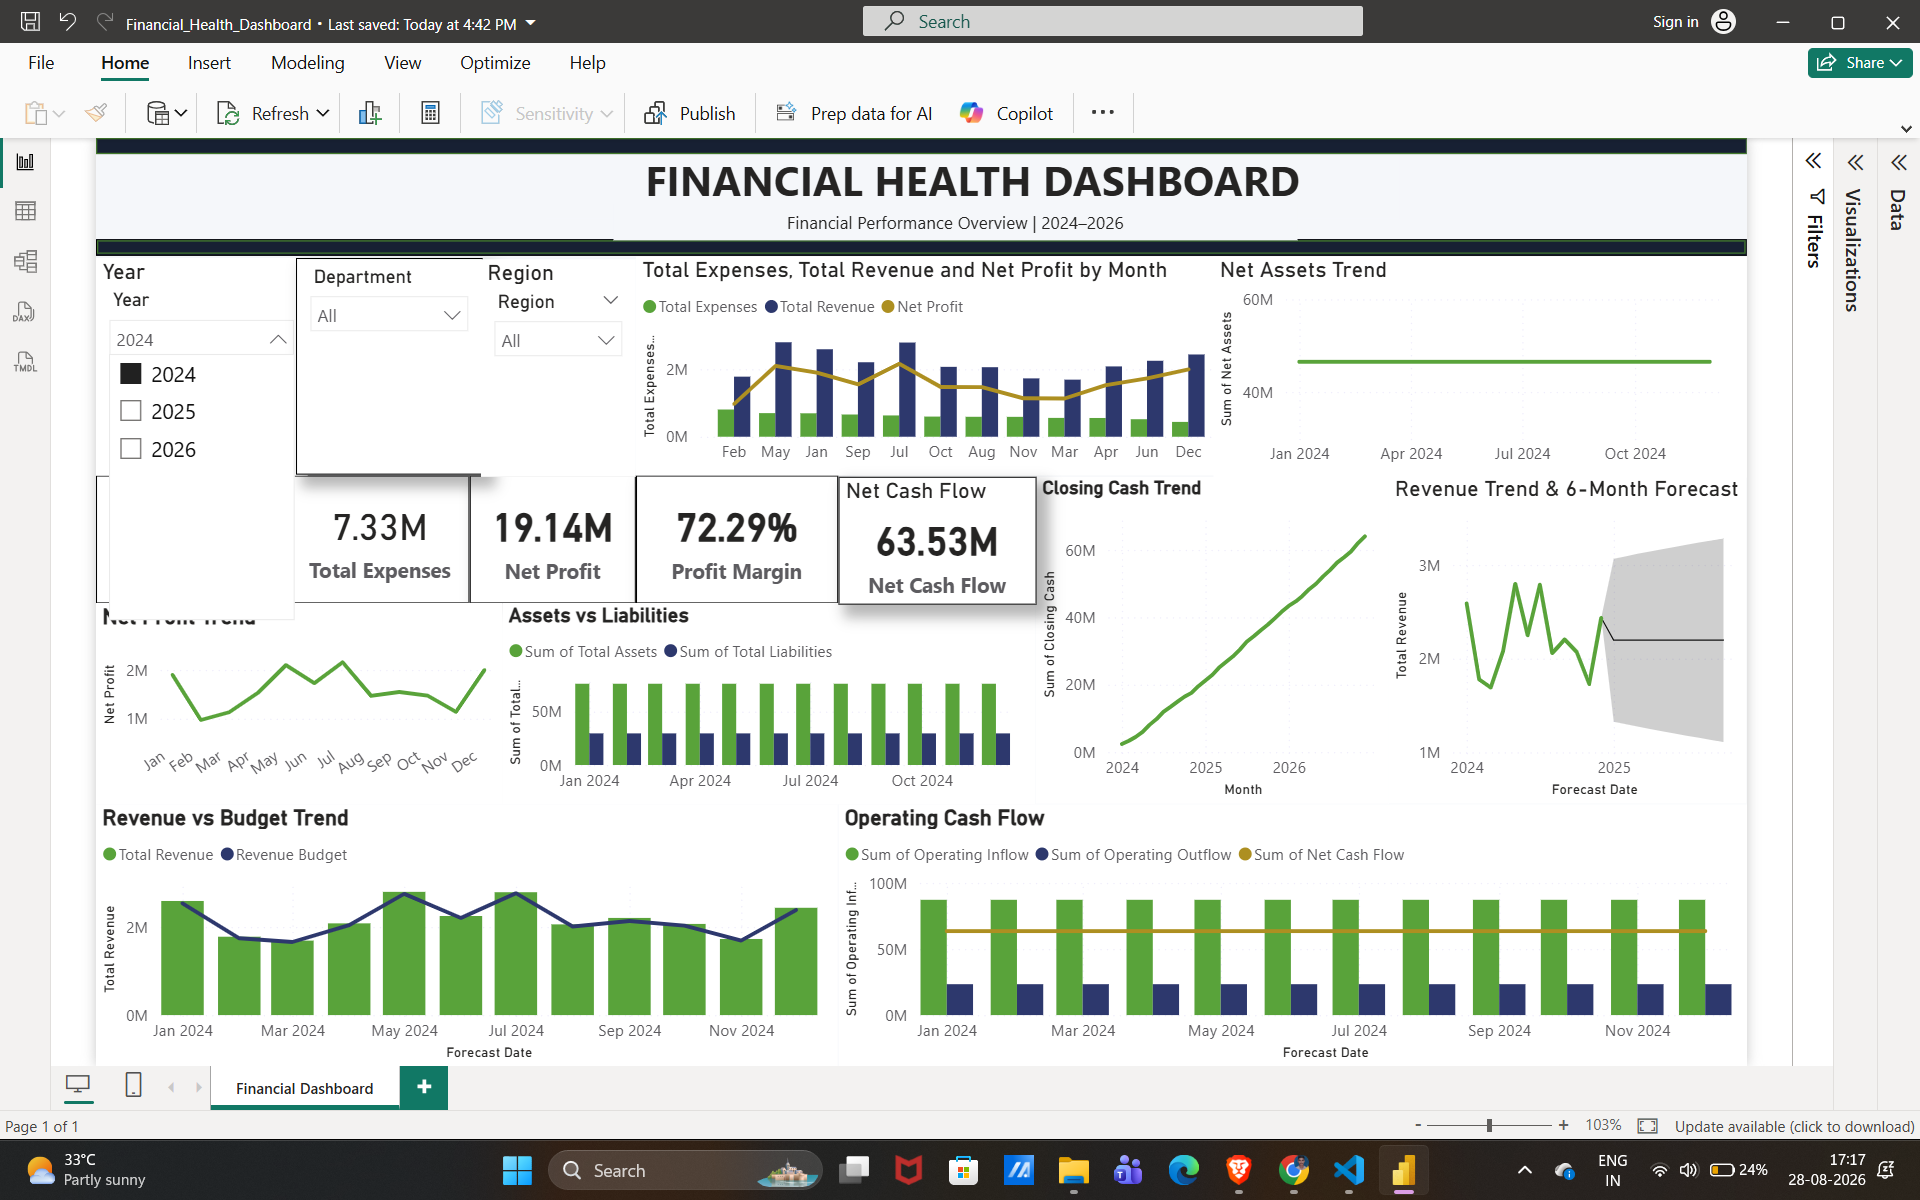

Layout of this report page (visuals, bound fields, positions):
{"tool":"powerbi","page":{"name":"Financial Dashboard","canvas":[1280,720],"ordinal":0},"visuals":[{"type":"card","fields":{"Values":["Financial Measures.Total Revenue"]},"box":[0,261.6,151.2,98.8],"z":0},{"type":"card","fields":{"Values":["Financial Measures.Total Expenses"]},"box":[151.2,261.6,138.4,98.8],"z":1000},{"type":"card","fields":{"Values":["Financial Measures.Net Profit"]},"box":[289.5,261.6,129.1,98.8],"z":2000},{"type":"card","fields":{"Values":["Financial Measures.Profit Margin"]},"box":[418.6,261.6,157,98.8],"z":3000},{"type":"slicer","title":"Year","fields":{"Values":["DimDate.Year"]},"box":[0,93,164,168.6],"z":4000},{"type":"lineClusteredColumnComboChart","fields":{"Category":["DimDate.Month"],"Y":["Financial Measures.Total Expenses","Financial Measures.Total Revenue"],"Y2":["Financial Measures.Net Profit"]},"box":[418.6,91.9,459.3,169.8],"z":5000},{"type":"lineChart","title":" Net Profit Trend","fields":{"Category":["DimDate.Month"],"Y":["Financial Measures.Net Profit"]},"box":[0,360.5,315.1,155.8],"z":6000},{"type":"clusteredColumnChart","title":"Assets vs Liabilities","fields":{"Y":["Sum(BalanceSheet.Total Assets)","Sum(BalanceSheet.Total Liabilities)"],"Category":["DimDate.Forecast Date"]},"box":[315.1,360.5,414,155.8],"z":7000},{"type":"lineChart","title":"Net Assets Trend","fields":{"Y":["Sum(BalanceSheet.Net Assets)"],"Category":["DimDate.Forecast Date"]},"box":[866.3,91.9,414,170.9],"z":8000},{"type":"lineClusteredColumnComboChart","title":"Operating Cash Flow","fields":{"Y":["Sum(CashFlow.Operating Inflow)","Sum(CashFlow.Operating Outflow)"],"Y2":["Sum(CashFlow.Net Cash Flow)"],"Category":["DimDate.Forecast Date"]},"box":[575.6,516.3,704.7,203.5],"z":9000},{"type":"lineChart","title":"Closing Cash Trend","fields":{"Category":["CashFlow.Month.Variation.Date Hierarchy.Month"],"Y":["Sum(CashFlow.Closing Cash)"]},"box":[729.1,262.8,273.3,253.5],"z":10000},{"type":"card","title":"Net Cash Flow","fields":{"Values":["Sum(CashFlow.Net Cash Flow)"]},"box":[575.6,262.8,153.5,98.8],"z":11000},{"type":"slicer","title":"Department","fields":{"Values":["DimDepartment.Department"]},"box":[154.9,93.5,144.5,168.4],"z":12000},{"type":"slicer","title":"Region","fields":{"Values":["DimRegion.Region"]},"box":[298.8,94.2,119.8,168.6],"z":13000},{"type":"lineClusteredColumnComboChart","title":"Revenue vs Budget Trend","fields":{"Y":["Financial Measures.Total Revenue"],"Y2":["Financial Measures.Revenue Budget"],"Category":["DimDate.Forecast Date"]},"box":[0,516.3,575.6,203.5],"z":14000},{"type":"lineChart","title":"Revenue Trend & 6-Month Forecast","fields":{"Y":["Financial Measures.Total Revenue"],"Category":["DimDate.Forecast Date"]},"box":[1002.3,261.6,277.9,254.7],"z":15000},{"type":"textbox","box":[348.8,5.8,661.6,57],"z":16000},{"type":"shape","box":[0,0,1280.4,12.5],"z":17000},{"type":"shape","box":[0,79,1280.4,12.5],"z":18000},{"type":"textbox","box":[401.2,51.2,530.2,27.9],"z":18001}]}

Visuals, with their boxes on the page's 1280x720 design canvas (x1, y1, x2, y2). These are canvas units, not pixel positions in the 1920x1200 screenshot, which may show the page scaled, cropped or inside an application window:
card - Financial Measures.Total Revenue: <box>0,262,151,360</box>
card - Financial Measures.Total Expenses: <box>151,262,290,360</box>
card - Financial Measures.Net Profit: <box>290,262,419,360</box>
card - Financial Measures.Profit Margin: <box>419,262,576,360</box>
"Year" slicer: <box>0,93,164,262</box>
lineClusteredColumnComboChart - DimDate.Month x Financial Measures.Total Expenses: <box>419,92,878,262</box>
" Net Profit Trend" lineChart: <box>0,360,315,516</box>
"Assets vs Liabilities" clusteredColumnChart: <box>315,360,729,516</box>
"Net Assets Trend" lineChart: <box>866,92,1280,263</box>
"Operating Cash Flow" lineClusteredColumnComboChart: <box>576,516,1280,720</box>
"Closing Cash Trend" lineChart: <box>729,263,1002,516</box>
"Net Cash Flow" card: <box>576,263,729,362</box>
"Department" slicer: <box>155,94,299,262</box>
"Region" slicer: <box>299,94,419,263</box>
"Revenue vs Budget Trend" lineClusteredColumnComboChart: <box>0,516,576,720</box>
"Revenue Trend & 6-Month Forecast" lineChart: <box>1002,262,1280,516</box>
textbox: <box>349,6,1010,63</box>
shape: <box>0,0,1280,12</box>
shape: <box>0,79,1280,92</box>
textbox: <box>401,51,931,79</box>
